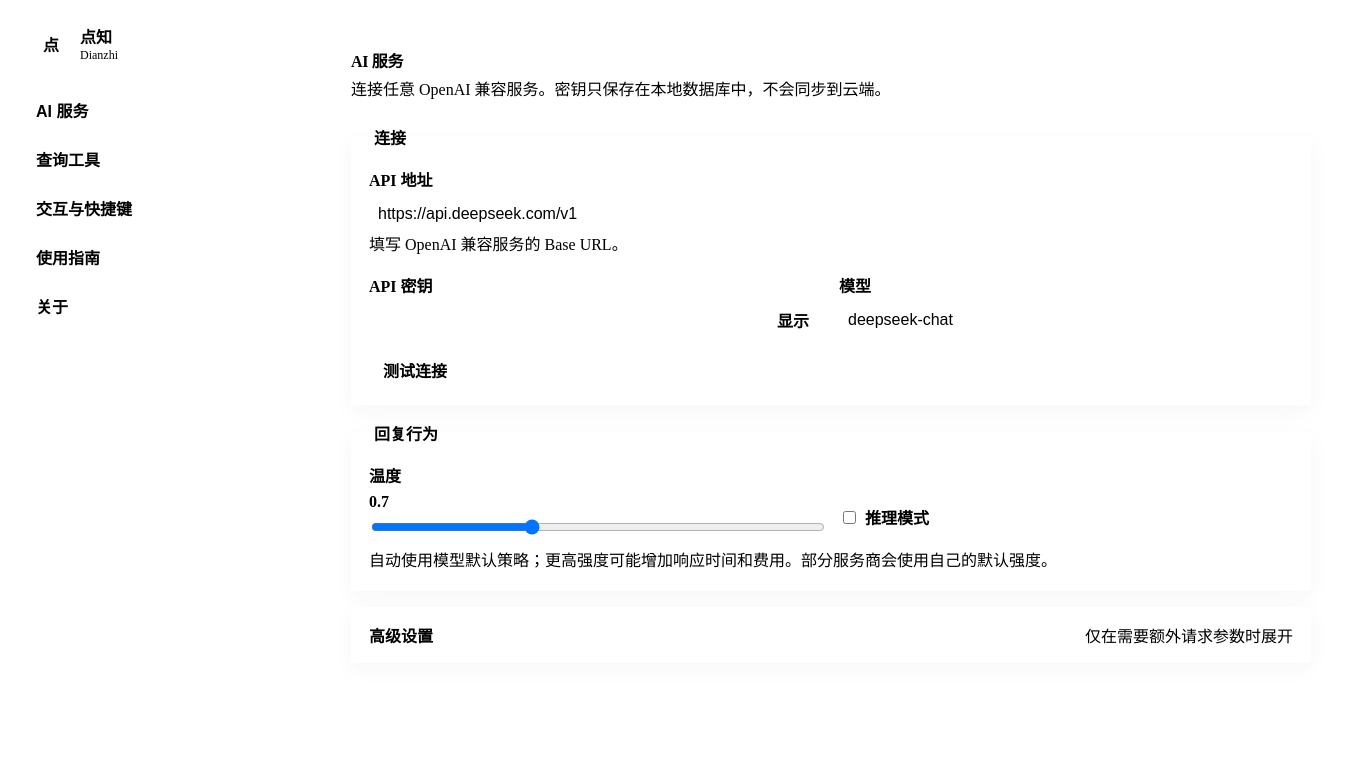
Options autosave › shows connection feedback beside the connection test action
This screenshot has width=1366, height=768.
Click the button "测试连接".
click(415, 370)  # box [369,353,461,387]
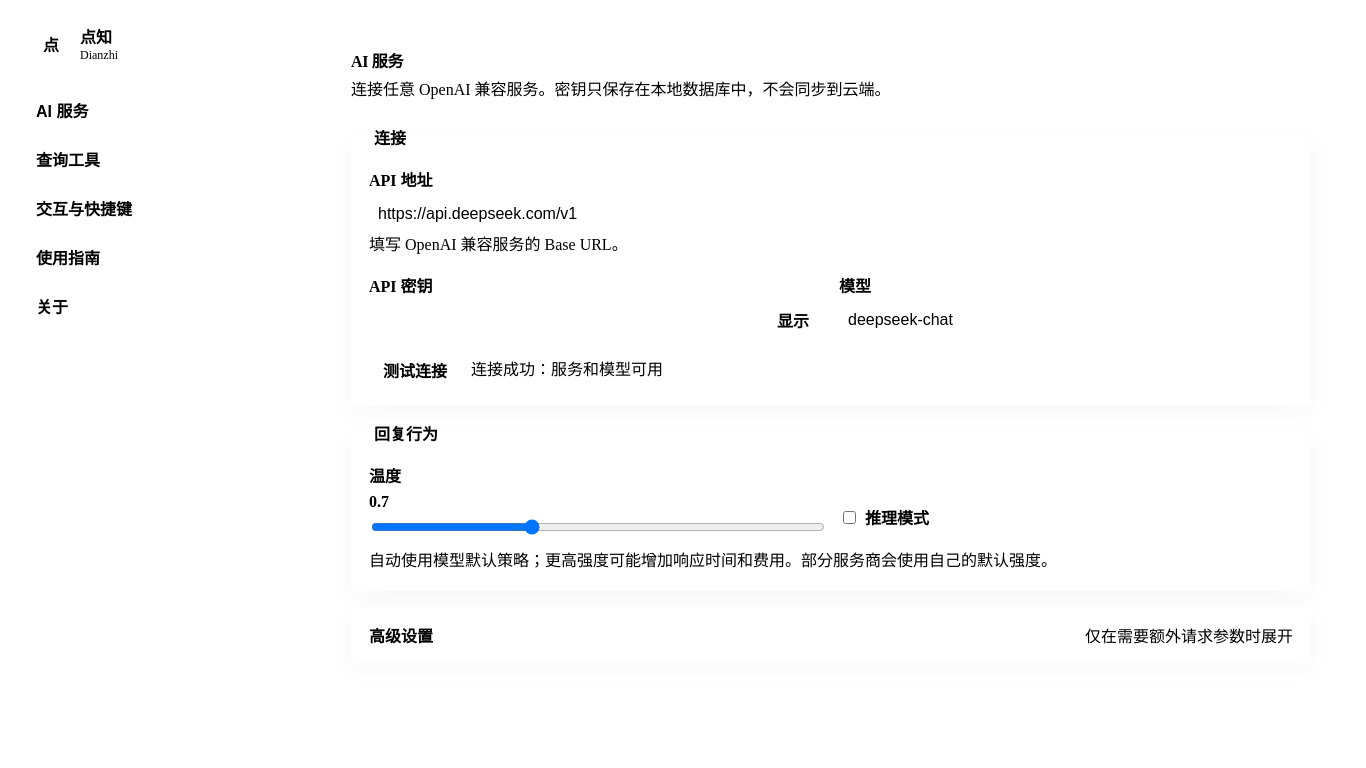
expect the message with class "connection-status" shows "连接成功": met, box [471,361,663,378]
